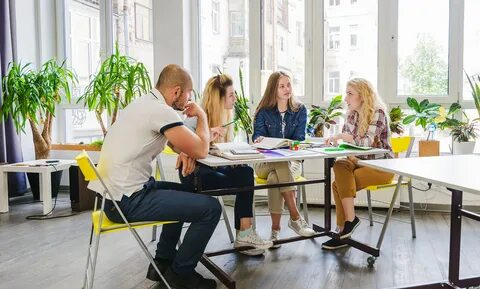awake: (94, 63, 210, 222), (320, 77, 397, 251), (253, 70, 308, 249), (178, 73, 255, 190)
